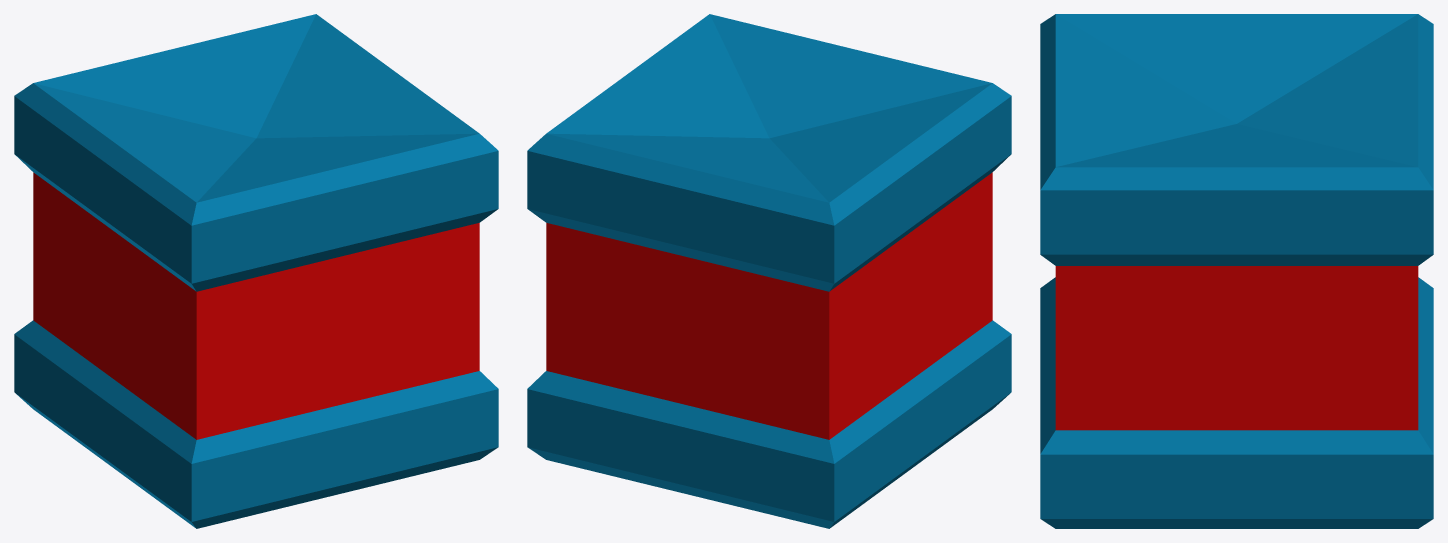
The model's file is SmallBox.fbx.
3 views of the same model, side by side, from view 1: azimuth 30°, elevation 25°; view 2: azimuth 150°, elevation 25°; view 3: azimuth 270°, elevation 25° (orthographic). The views are drawn at different scales.
Parts seen in each view (by area): view 1: SmallBox; view 2: SmallBox; view 3: SmallBox.
Boxes of the visible parts, <box> form: SmallBox: <box>14,14,498,528</box>; SmallBox: <box>527,14,1011,528</box>; SmallBox: <box>1040,14,1433,528</box>.
Bounding box in the file's own units: 2.71 × 2.75 × 2.71.
